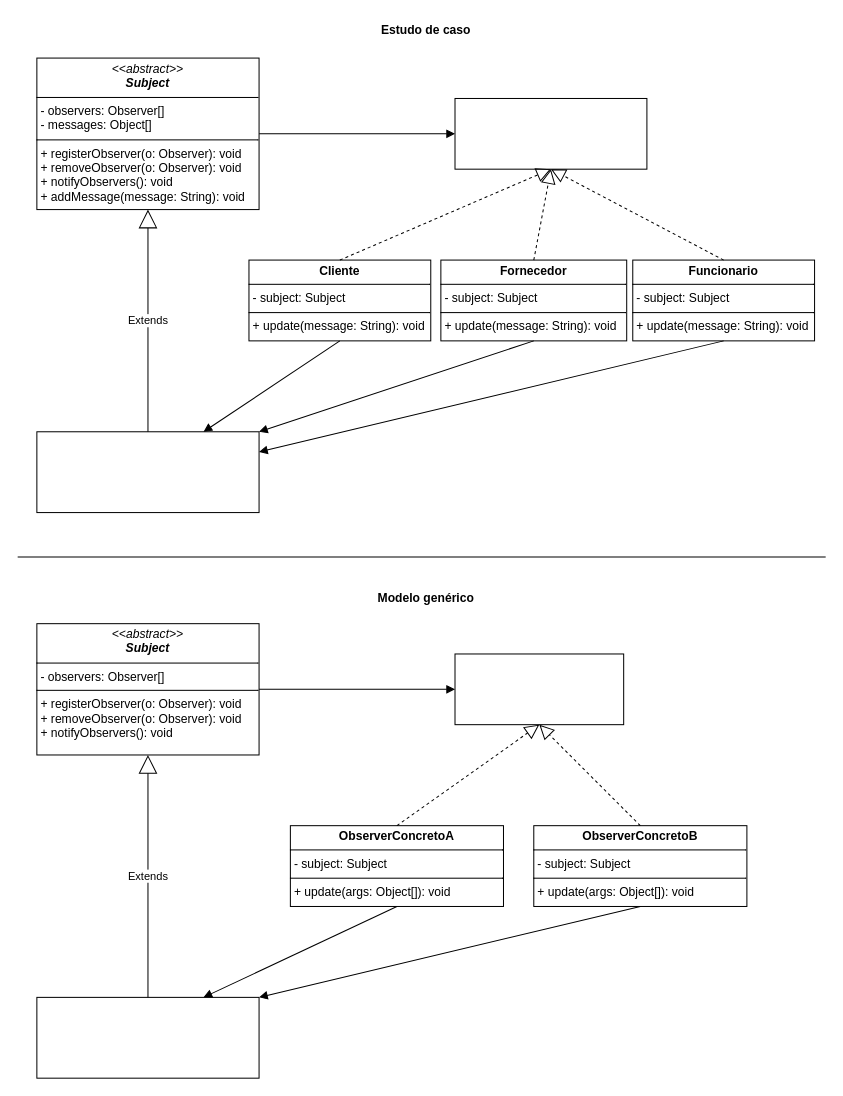
The diagram is 843 pixels wide and 1096 high, and some of its shapes have lost their labels. The shapes that lost their labels are listed below. From the top down, each one's centre as x and y in pixels, then its label:
(x=550, y=133): <<Interface>> Observer + update(message: String): void
(x=147, y=472): Newsletter
(x=539, y=689): <<Interface>> Observer + update(args: Object[]): void
(x=147, y=1037): SubjectConcreto
